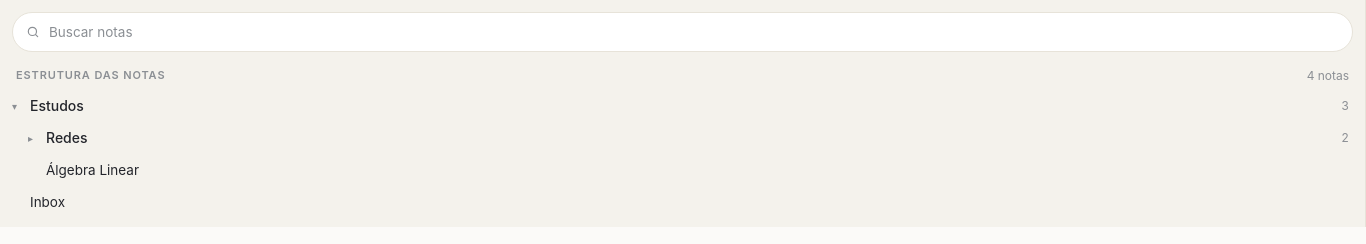
BarraLateral › busca › avisa quando nada casa
This screenshot has width=1366, height=244.
In the search field named "Buscar nas notas": (682, 32) [12,12,1353,52], type "zzz"
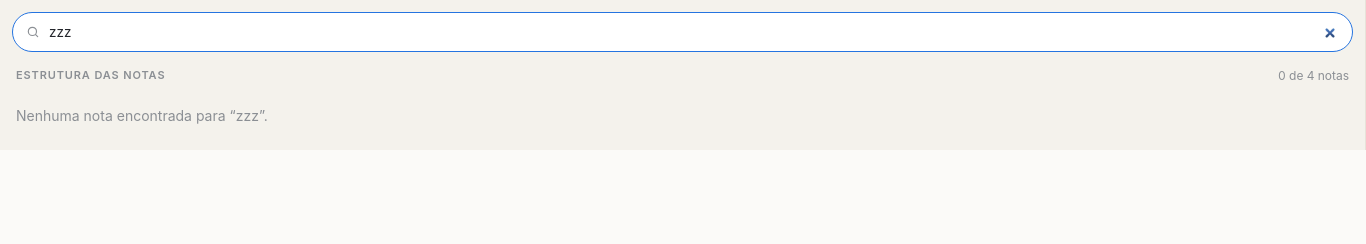
Result: the text "Nenhuma nota encontrada para “zzz”." is shown at [16,107,268,124]
